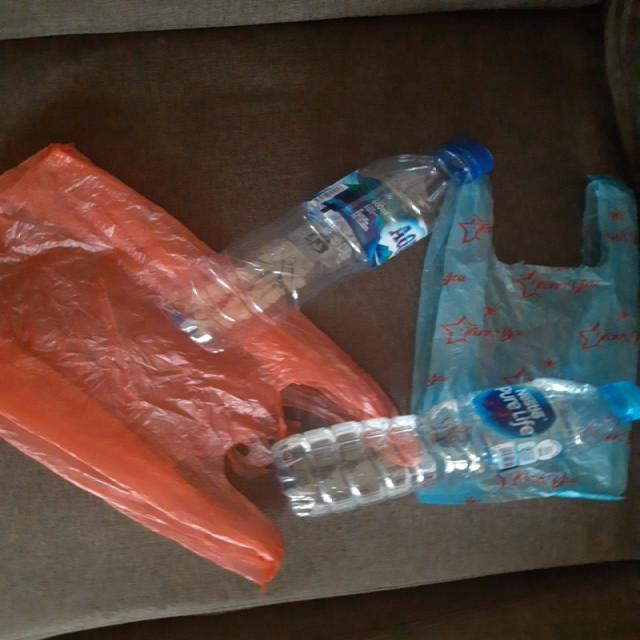Single-layer Plastic: (6, 155, 401, 596), (408, 172, 638, 409), (420, 426, 632, 512)
